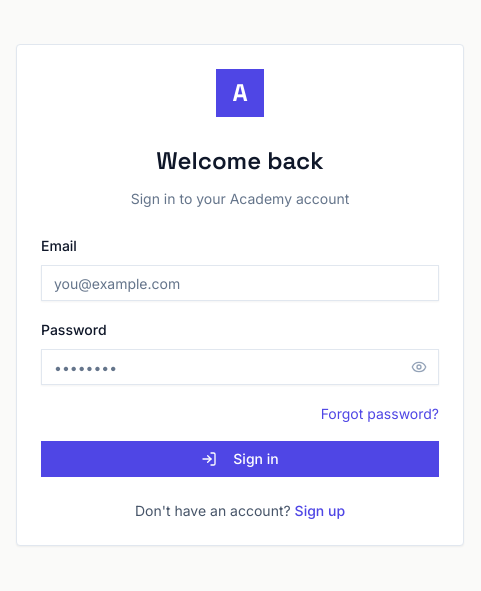
Test case: LoginPage TDD › Should show validation errors for empty fields
Click the button "Sign in".
click(240, 459)  # box left=41, top=441, right=439, bottom=477
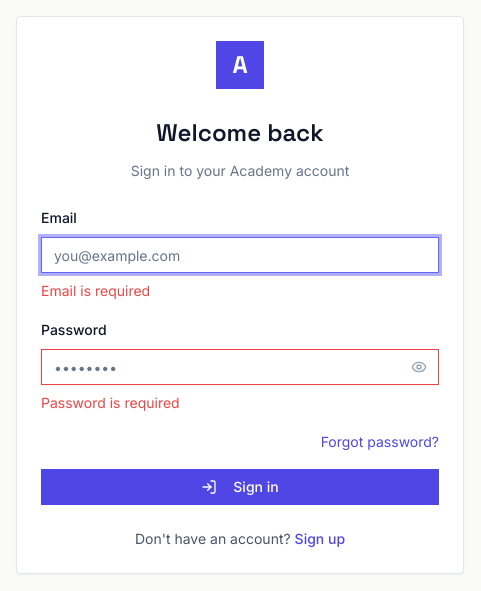
Now the text "Email is required" is shown, box left=41, top=282, right=150, bottom=299
Now the text "Password is required" is shown, box left=41, top=394, right=180, bottom=411
